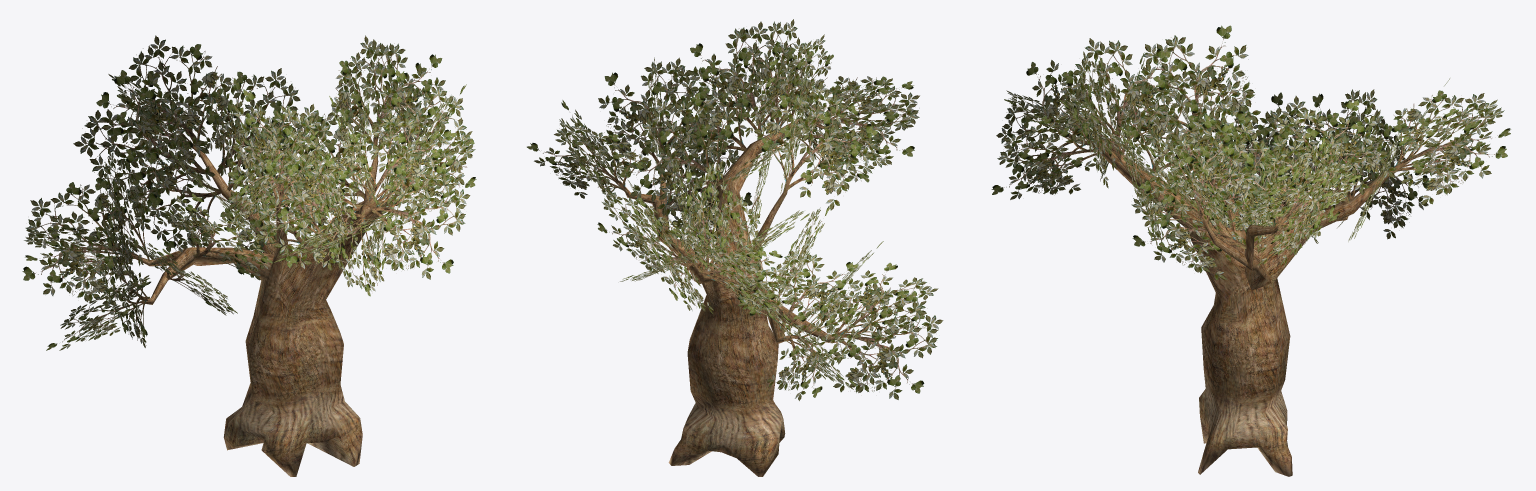
The model's file is decd_blba_tree_a1_l0.fbx.
3 views of the same model, side by side, from view 1: azimuth 30°, elevation 25°; view 2: azimuth 150°, elevation 25°; view 3: azimuth 270°, elevation 25° (orthographic). The views are drawn at different scales.
Parts seen in each view (by area): view 1: mesh_node; view 2: mesh_node; view 3: mesh_node.
Part boxes in pixels (x1,y1,x2,y2): mesh_node: [22, 35, 476, 476]; mesh_node: [527, 19, 943, 476]; mesh_node: [991, 25, 1510, 476].
Bounding box in the file's own units: 12.17 × 11.5 × 13.3.
